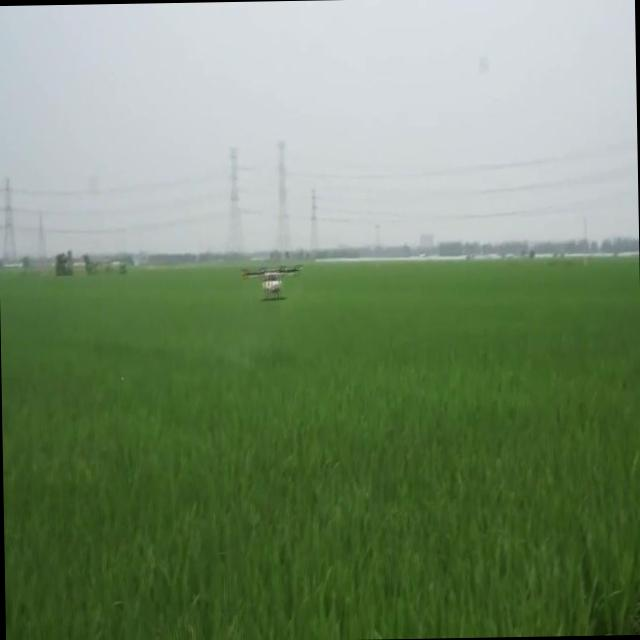drone: (239, 260, 302, 308)
